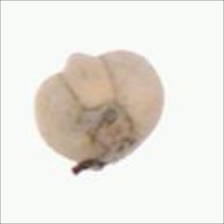L5: (75, 100, 145, 172), (57, 51, 118, 109)
L6: (28, 48, 167, 174)
